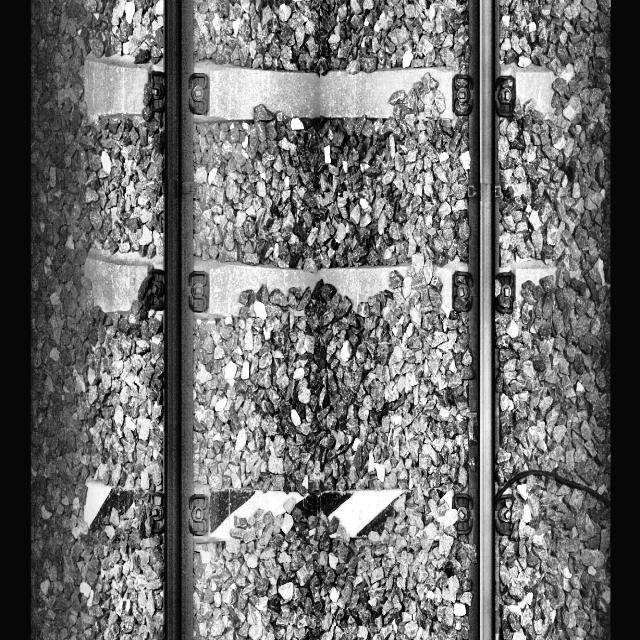Clips: (493, 70, 518, 121), (187, 266, 210, 315), (452, 270, 476, 316), (144, 66, 167, 112), (188, 73, 211, 117), (450, 75, 474, 117), (496, 270, 517, 318), (188, 495, 211, 535), (147, 267, 166, 311), (494, 497, 516, 533), (452, 495, 473, 532), (147, 493, 164, 533)
Sleepers: (79, 42, 563, 135), (79, 239, 562, 330), (82, 470, 538, 552)
